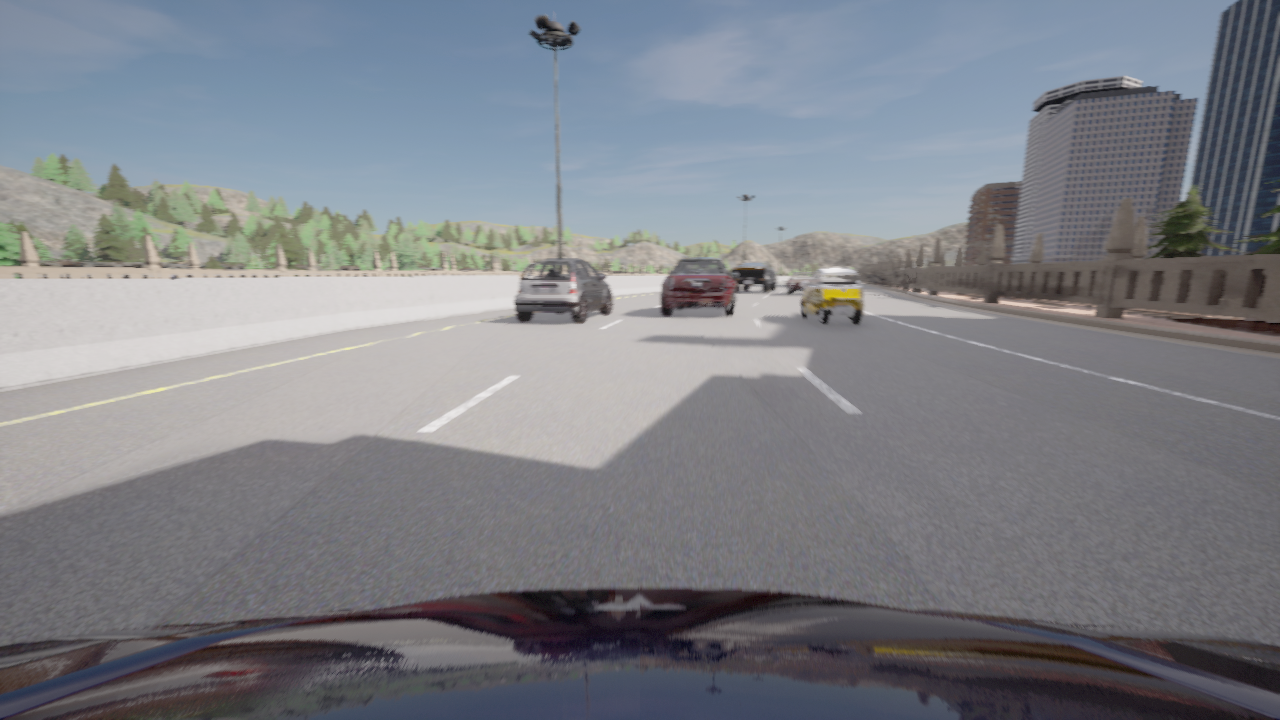cyclist: (0, 588, 1279, 719), (513, 258, 612, 322), (661, 253, 737, 315), (801, 267, 863, 324), (732, 261, 777, 292), (786, 272, 813, 294)
